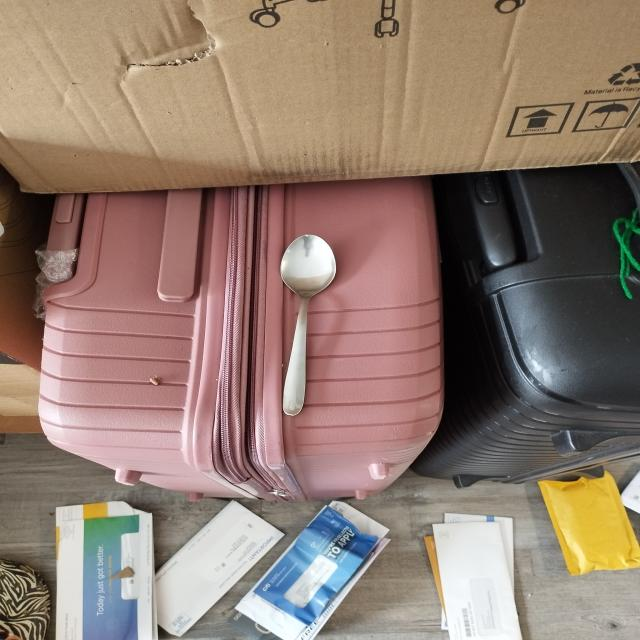Spoon: (266, 226, 363, 432)
